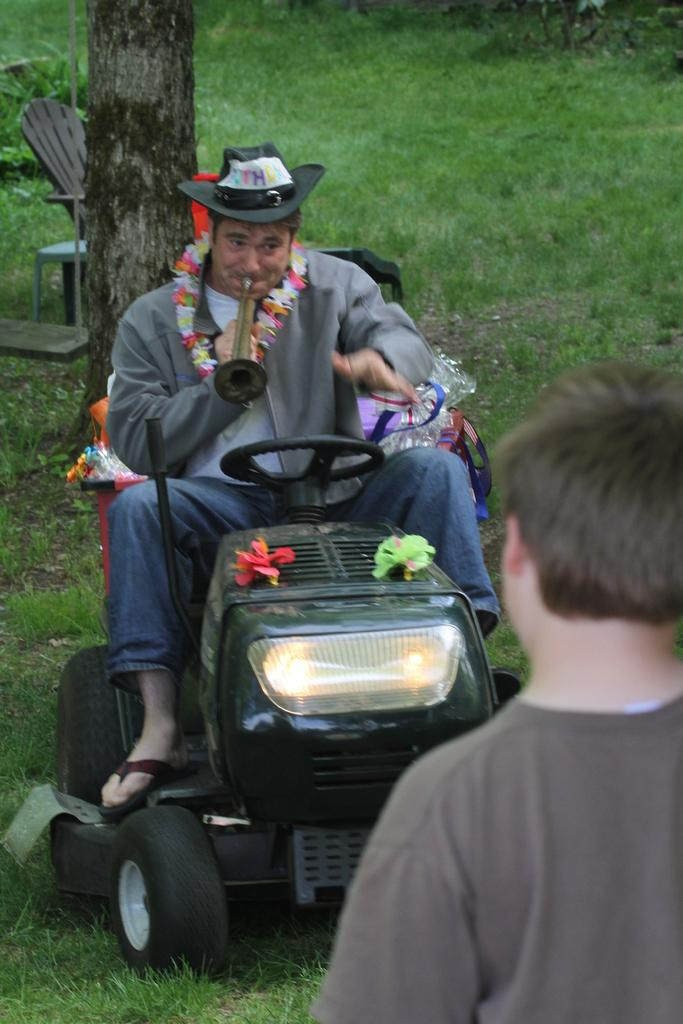Hat: (175, 139, 326, 218)
